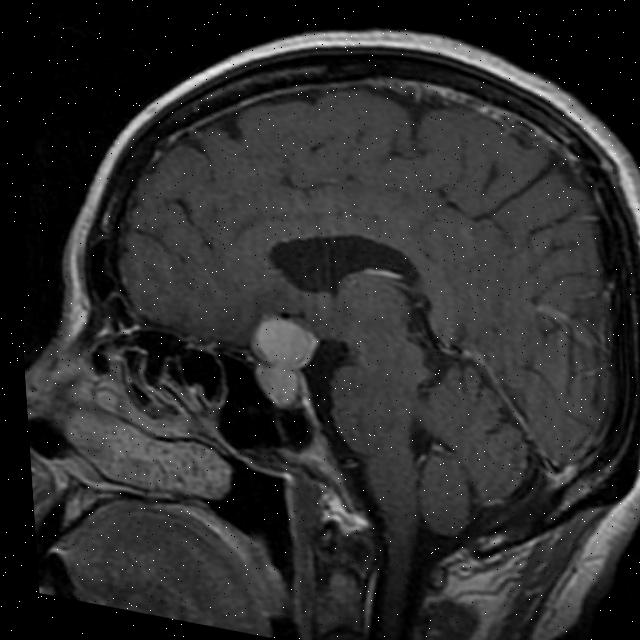Pituitary: (241, 312, 326, 414)
